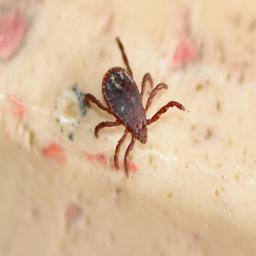Rhipicephalus sanguineus: (82, 36, 185, 178)
